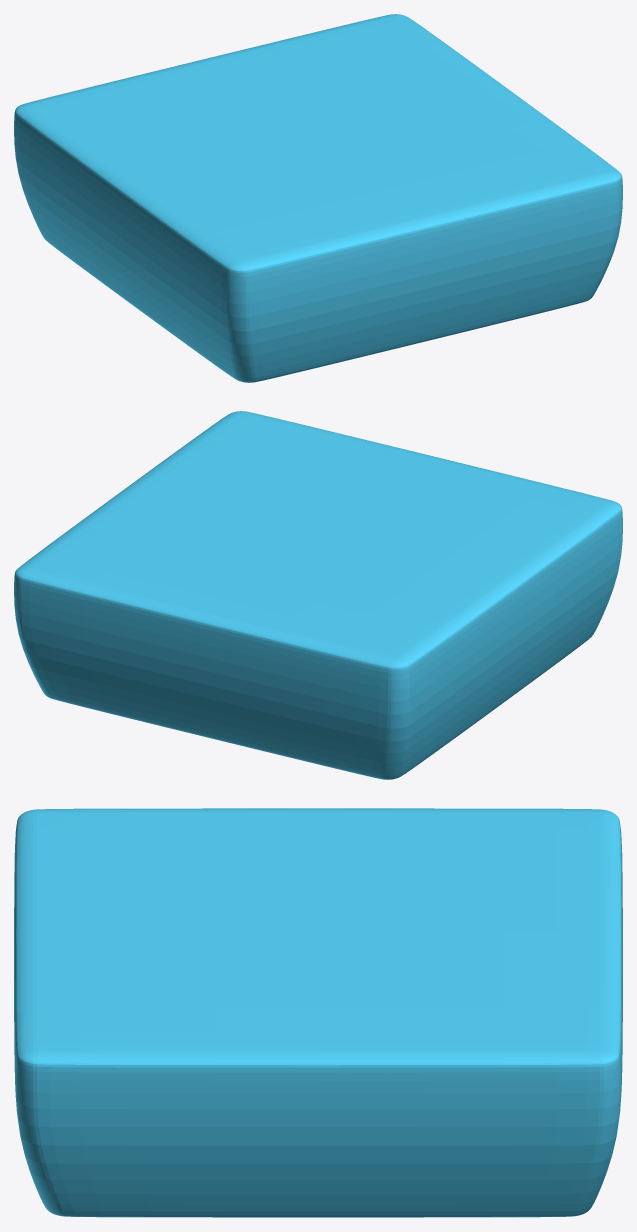
File: WaterTile.fbx
The picture shows the model from 3 angles, top to bottom: view 1: azimuth 30°, elevation 25°; view 2: azimuth 150°, elevation 25°; view 3: azimuth 270°, elevation 25°; orthographic projection. The views are drawn at different scales.
Parts seen in each view (by area): view 1: WaterTile; view 2: WaterTile; view 3: WaterTile.
Part boxes in pixels (box(x1,y1,x2,y2)): WaterTile: box(14, 14, 622, 382); WaterTile: box(14, 411, 622, 779); WaterTile: box(14, 808, 622, 1217).
Bounding box in the file's own units: 99.89 × 31.98 × 99.89.
